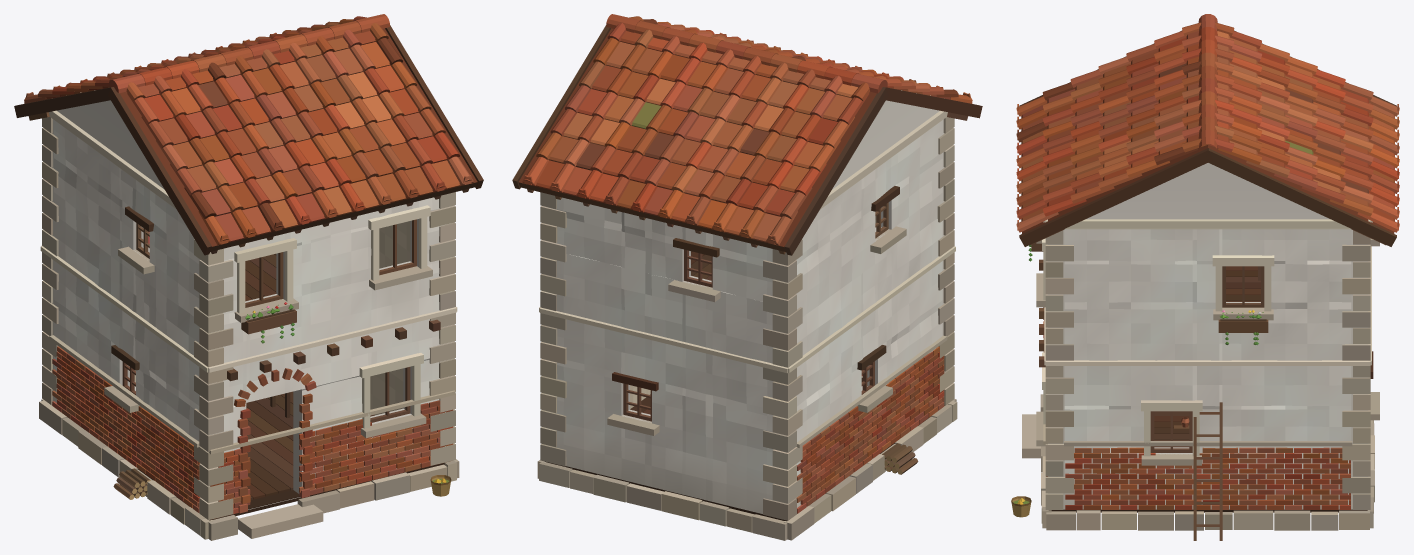
File: pleb_3_2.glb
The picture shows the model from 3 angles, left to right: view 1: azimuth 30°, elevation 25°; view 2: azimuth 150°, elevation 25°; view 3: azimuth 270°, elevation 25°; orthographic projection. The views are drawn at different scales.
Visible parts, largest first — view 1: House, Walls, Rooms; view 2: House, Walls, Rooms; view 3: House, Walls, Rooms.
Part boxes in pixels (box(x1,y1,x2,y2)): House: box(14, 14, 483, 540); Walls: box(52, 100, 451, 509); Rooms: box(134, 221, 410, 499); House: box(512, 14, 982, 540); Walls: box(544, 100, 944, 513); Rooms: box(630, 211, 876, 414); House: box(1011, 14, 1399, 540); Walls: box(1048, 163, 1367, 509); Rooms: box(1154, 266, 1260, 447).
Size of the model in its own units: 4.42 by 5.66 by 5.1.
3 materials, 3 textured.
